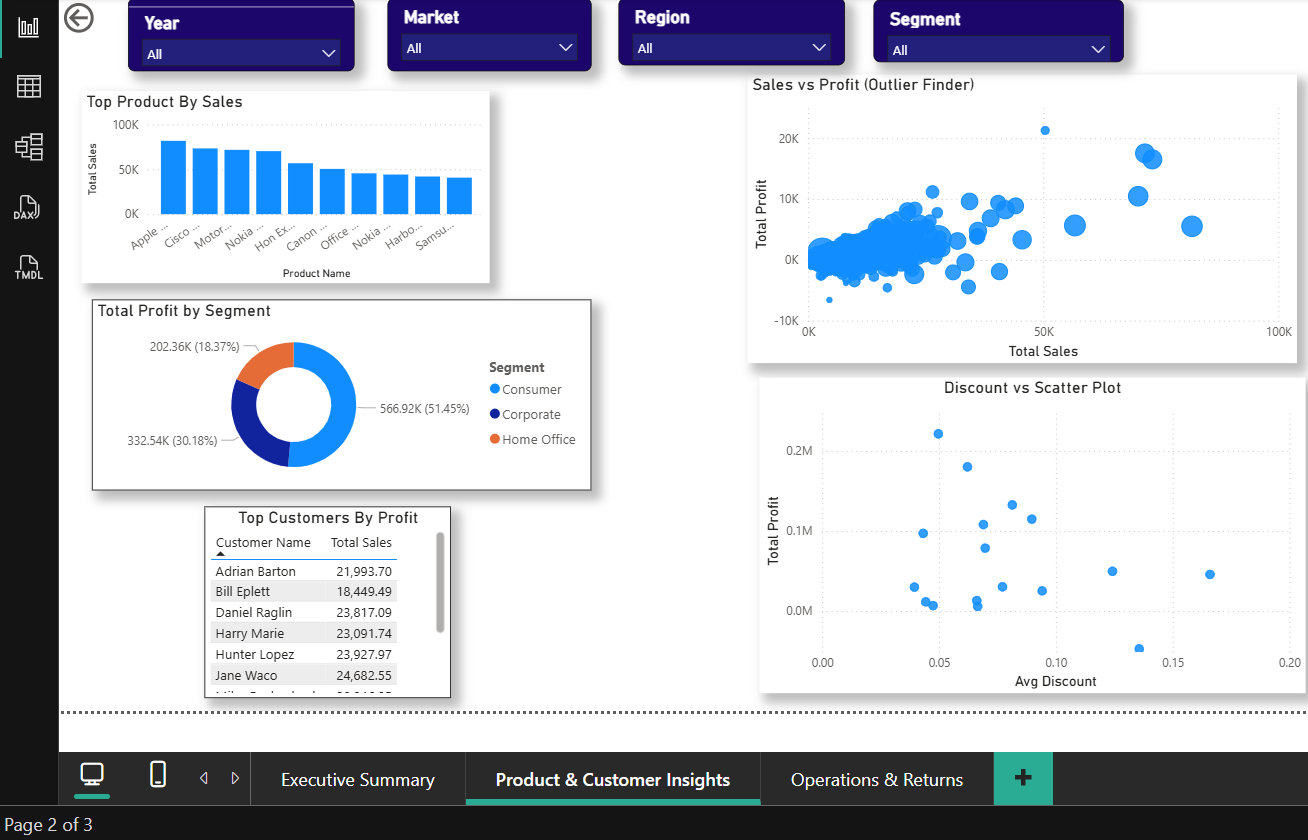

What the dashboard file says about the page in this screenshot:
{"tool":"powerbi","page":{"name":"Product & Customer Insights","canvas":[1280,720],"ordinal":1},"visuals":[{"type":"clusteredColumnChart","title":"Top  Product  By Sales","fields":{"Category":["Dim_Product.Product Name"],"Y":["_Measures.Total Sales"]},"box":[22,94,412,194],"z":0},{"type":"scatterChart","title":"Sales vs Profit (Outlier Finder)","fields":{"X":["_Measures.Total Sales"],"Y":["_Measures.Total Profit"],"Category":["Dim_Product.Product Name"],"Size":["_Measures.Total Quantity"]},"box":[695.8,77.1,554.6,291.1],"z":1000},{"type":"donutChart","fields":{"Category":["Dim_Customer.Segment"],"Y":["_Measures.Total Profit"]},"box":[32.9,304.3,504.3,192.9],"z":2000},{"type":"tableEx","title":"Top Customers By Profit","fields":{"Values":["Dim_Customer.Customer Name","_Measures.Total Sales"]},"box":[147,513.8,248.9,193.6],"z":3000},{"type":"scatterChart","title":"Discount vs Scatter Plot","fields":{"X":["_Measures.Avg Discount"],"Y":["_Measures.Total Profit"],"Category":["Dim_Product.Sub-Category"]},"box":[707.4,382.8,551.7,318.8],"z":4000},{"type":"slicer","fields":{"Values":["Dim_Date.Order Date.Variation.Date Hierarchy.Year"]},"box":[0,0,229.2,73.8],"z":5000},{"type":"slicer","fields":{"Values":["Dim_Geography.Market"]},"box":[241.4,0,205.7,74.3],"z":6000},{"type":"slicer","fields":{"Values":["Dim_Geography.Region"]},"box":[468.6,0,228.6,68.6],"z":7000},{"type":"slicer","fields":{"Values":["Dim_Customer.Segment"]},"box":[720,0,252.9,64.3],"z":8000},{"type":"actionButton","box":[0,0,100,40],"z":9000}]}

Visuals, with their boxes on the page's 1280x720 design canvas (x1, y1, x2, y2). These are canvas units, not pixel positions in the 1308x840 screenshot, which may show the page scaled, cropped or inside an application window:
"Top  Product  By Sales" clusteredColumnChart: 22, 94, 434, 288
"Sales vs Profit (Outlier Finder)" scatterChart: 696, 77, 1250, 368
donutChart - Dim_Customer.Segment x _Measures.Total Profit: 33, 304, 537, 497
"Top Customers By Profit" tableEx: 147, 514, 396, 707
"Discount vs Scatter Plot" scatterChart: 707, 383, 1259, 702
slicer - Dim_Date.Order Date.Variation.Date Hierarchy.Year: 0, 0, 229, 74
slicer - Dim_Geography.Market: 241, 0, 447, 74
slicer - Dim_Geography.Region: 469, 0, 697, 69
slicer - Dim_Customer.Segment: 720, 0, 973, 64
actionButton: 0, 0, 100, 40
